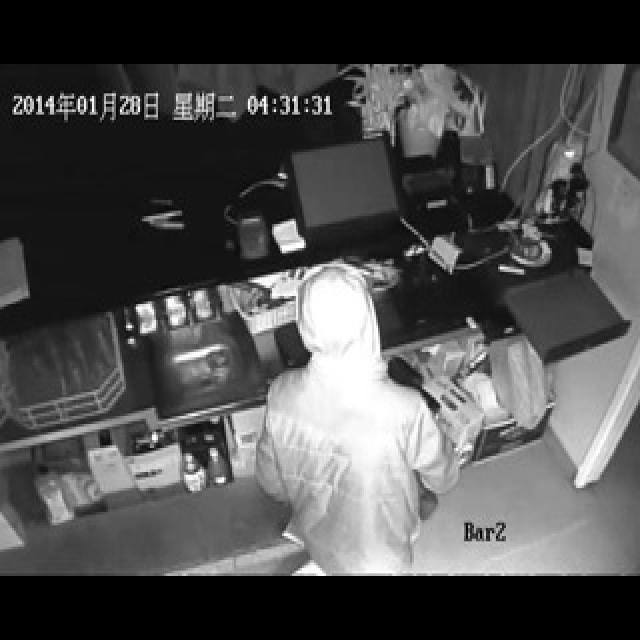thief: (283, 248, 430, 532)
